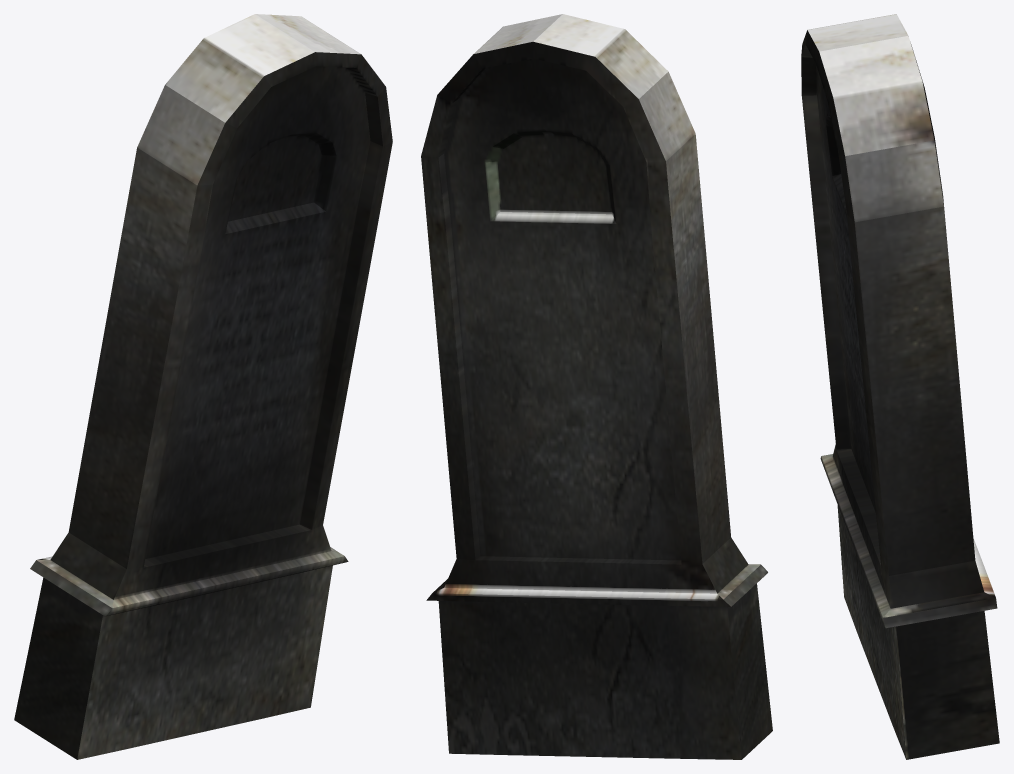
The model's file is graveC.fbx.
The picture shows the model from 3 angles, left to right: view 1: azimuth 30°, elevation 25°; view 2: azimuth 150°, elevation 25°; view 3: azimuth 270°, elevation 25°; orthographic projection.
Parts seen in each view (by area): view 1: polySurface2241; view 2: polySurface2241; view 3: polySurface2241.
Part boxes in pixels (x1,y1,x2,y2): polySurface2241: (14,14,392,759); polySurface2241: (421,14,772,759); polySurface2241: (801,14,999,759).
Size of the model in its own units: 6.59 by 13.2 by 3.4.
